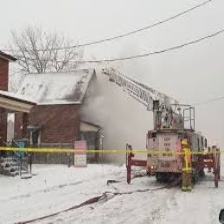smoke: (93, 87, 135, 150)
